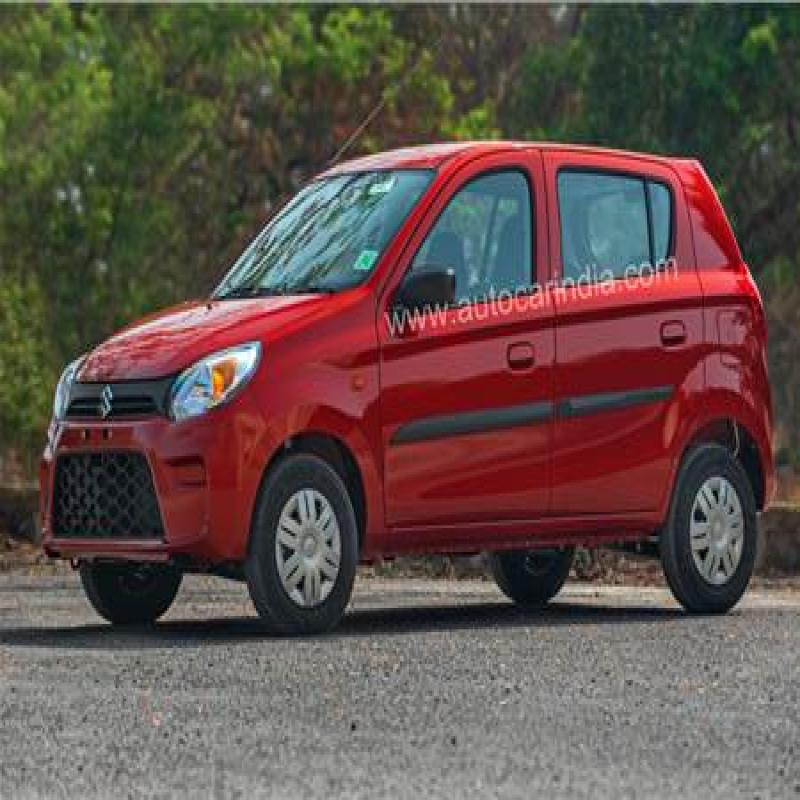car: (70, 109, 748, 587)
